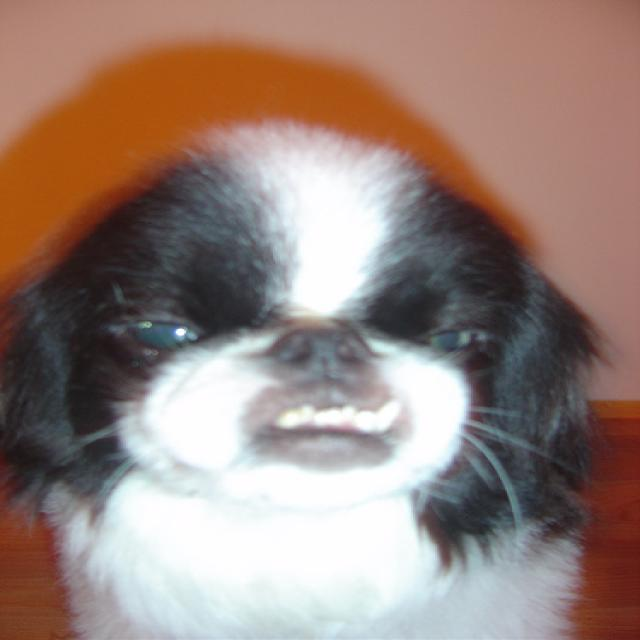dog-japanese_chin: (2, 122, 591, 637)
